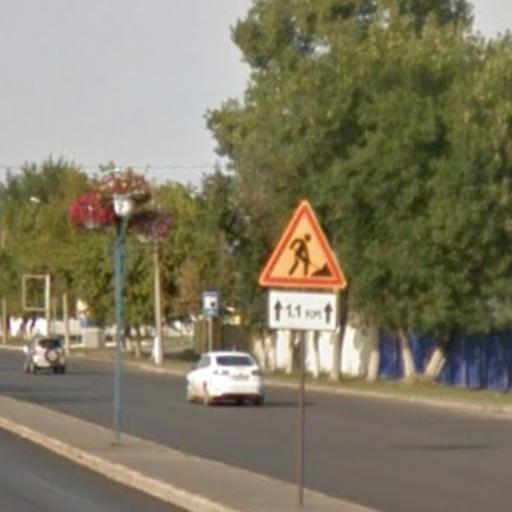traffic_sign: (254, 194, 352, 295)
